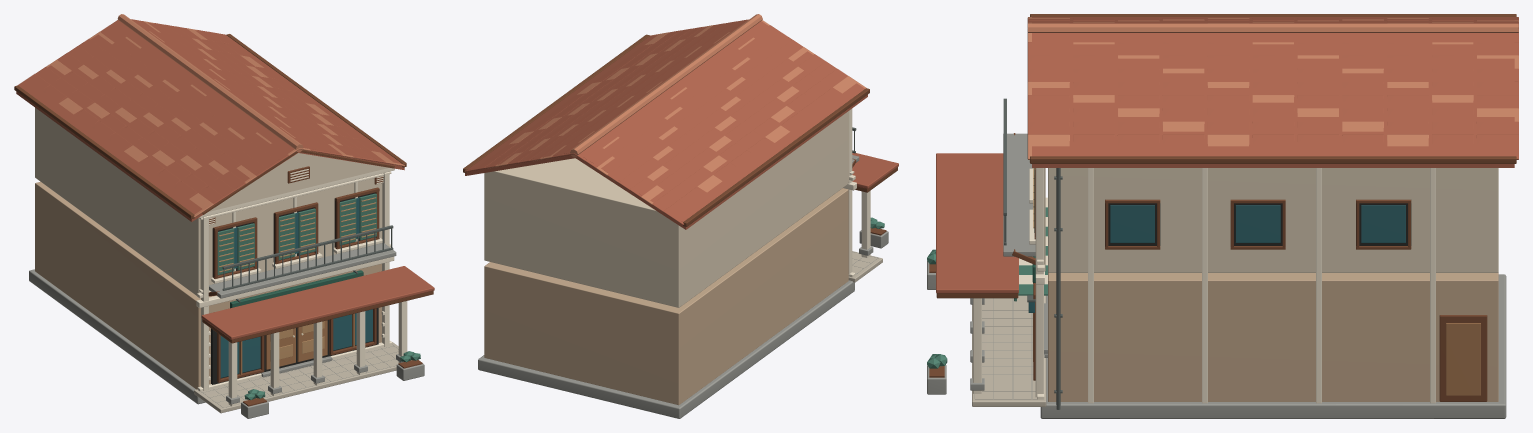
File: TRADITIONAL MALAYSIAN SHOPLOT.fbx
The picture shows the model from 3 angles, left to right: view 1: azimuth 30°, elevation 25°; view 2: azimuth 150°, elevation 25°; view 3: azimuth 270°, elevation 25°; orthographic projection. The views are drawn at different scales.
Visible parts, largest first — view 1: 51 Solid pitched terracotta roof, 02 Ground floor masonry, 03 Upper floor masonry, 20 Walkway canopy roof, 13 Five foot way tiled floor, 04 Front upper facade skin, 55 Front triangular gable, 46 Balcony floor slab, 01 Foundation stone plinth, 53 Roof ridge cap, 52 Roof eave fascia, 09 Front corner pilaster (+26 smaller); view 2: 02 Ground floor masonry, 03 Upper floor masonry, 51 Solid pitched terracotta roof, 01 Foundation stone plinth, 53 Roof ridge cap, 52 Roof eave fascia, 20 Walkway canopy roof, 52 Roof eave fascia.001, 09 Front corner pilaster, 16 Covered walkway column, 13 Five foot way tiled floor; view 3: 02 Ground floor masonry, 51 Solid pitched terracotta roof, 03 Upper floor masonry, 20 Walkway canopy roof, 01 Foundation stone plinth, 13 Five foot way tiled floor, 53 Roof ridge cap, 52 Roof eave fascia.001, 46 Balcony floor slab, 65 Side door inset, 09 Front corner pilaster.001, 61 Side window glass.001 (+23 smaller).
Boxes of the visible parts, bbox=[...] form: 51 Solid pitched terracotta roof: bbox=[16, 20, 404, 221]; 02 Ground floor masonry: bbox=[35, 181, 381, 389]; 03 Upper floor masonry: bbox=[35, 108, 200, 295]; 20 Walkway canopy roof: bbox=[201, 266, 434, 339]; 13 Five foot way tiled floor: bbox=[194, 342, 411, 413]; 04 Front upper facade skin: bbox=[200, 178, 382, 291]; 55 Front triangular gable: bbox=[208, 153, 388, 211]; 46 Balcony floor slab: bbox=[209, 243, 396, 298]; 01 Foundation stone plinth: bbox=[29, 269, 205, 404]; 53 Roof ridge cap: bbox=[117, 14, 303, 152]; 52 Roof eave fascia: bbox=[14, 85, 194, 219]; 09 Front corner pilaster: bbox=[201, 216, 208, 390]; 02 Ground floor masonry: bbox=[484, 188, 848, 405]; 03 Upper floor masonry: bbox=[484, 111, 848, 307]; 51 Solid pitched terracotta roof: bbox=[465, 20, 867, 229]; 01 Foundation stone plinth: bbox=[478, 280, 854, 418]; 53 Roof ridge cap: bbox=[570, 14, 762, 157]; 52 Roof eave fascia: bbox=[683, 88, 869, 226]; 20 Walkway canopy roof: bbox=[852, 153, 898, 188]; 52 Roof eave fascia.001: bbox=[463, 34, 649, 173]; 09 Front corner pilaster: bbox=[848, 108, 852, 273]; 16 Covered walkway column: bbox=[861, 190, 870, 257]; 13 Five foot way tiled floor: bbox=[848, 251, 882, 282]; 02 Ground floor masonry: bbox=[1048, 272, 1498, 401]; 51 Solid pitched terracotta roof: bbox=[1032, 17, 1514, 167]; 03 Upper floor masonry: bbox=[1048, 168, 1498, 272]; 20 Walkway canopy roof: bbox=[936, 153, 1018, 293]; 01 Foundation stone plinth: bbox=[1040, 274, 1506, 418]; 13 Five foot way tiled floor: bbox=[972, 295, 1046, 406]; 53 Roof ridge cap: bbox=[1028, 23, 1518, 32]; 52 Roof eave fascia.001: bbox=[1030, 156, 1516, 163]; 46 Balcony floor slab: bbox=[1003, 133, 1035, 256]; 65 Side door inset: bbox=[1446, 323, 1480, 395]; 09 Front corner pilaster.001: bbox=[1035, 168, 1043, 397]; 61 Side window glass.001: bbox=[1235, 205, 1280, 242].
Size of the model in its own units: 902 by 959 by 1557.
